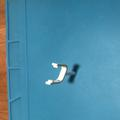u-shape: (44, 62, 79, 86)
